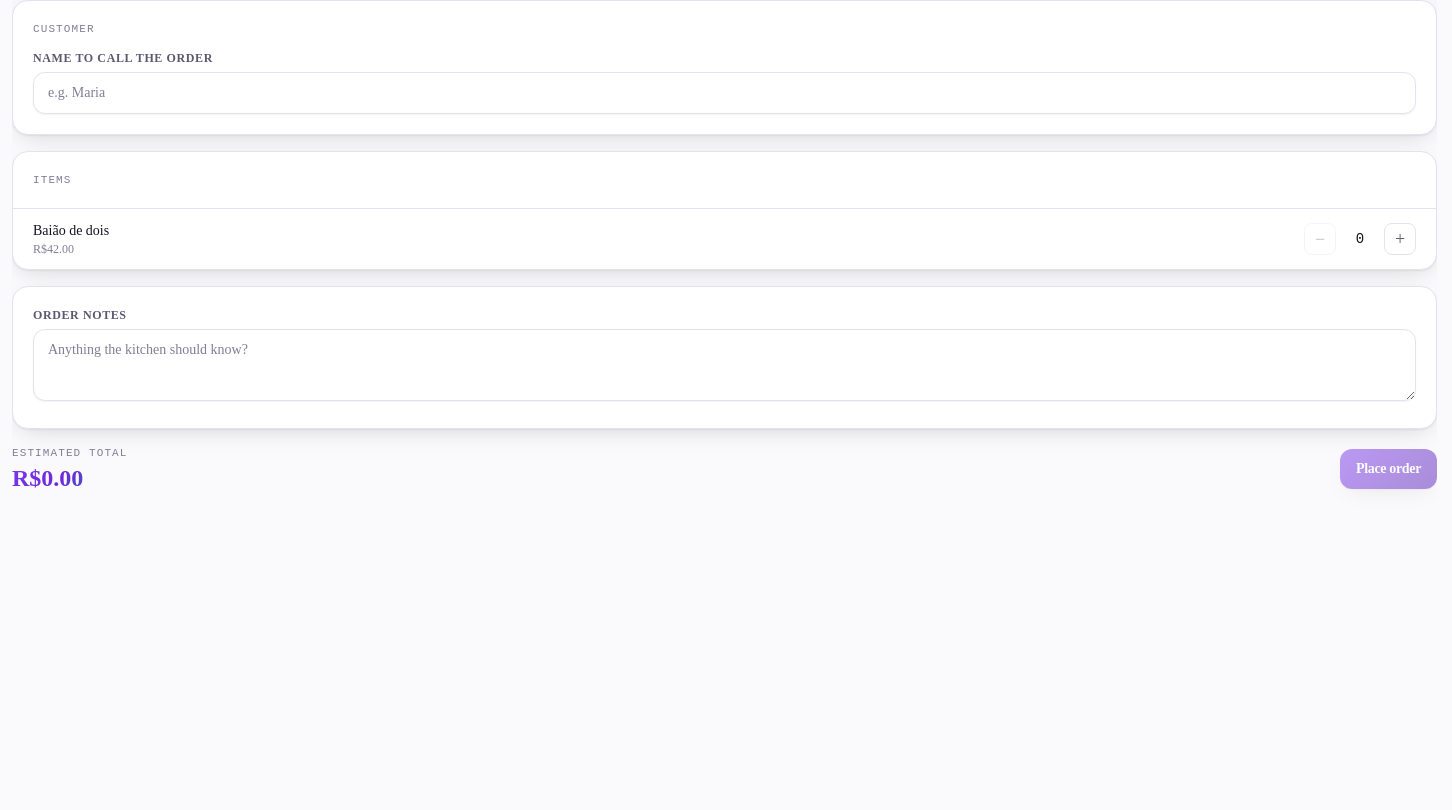
Scenario: CreateOrderForm — TOTEM › names the cause when an item is out of stock
Click the button named "Increase quantity".
click(1400, 239)  # box [1384,223,1416,255]
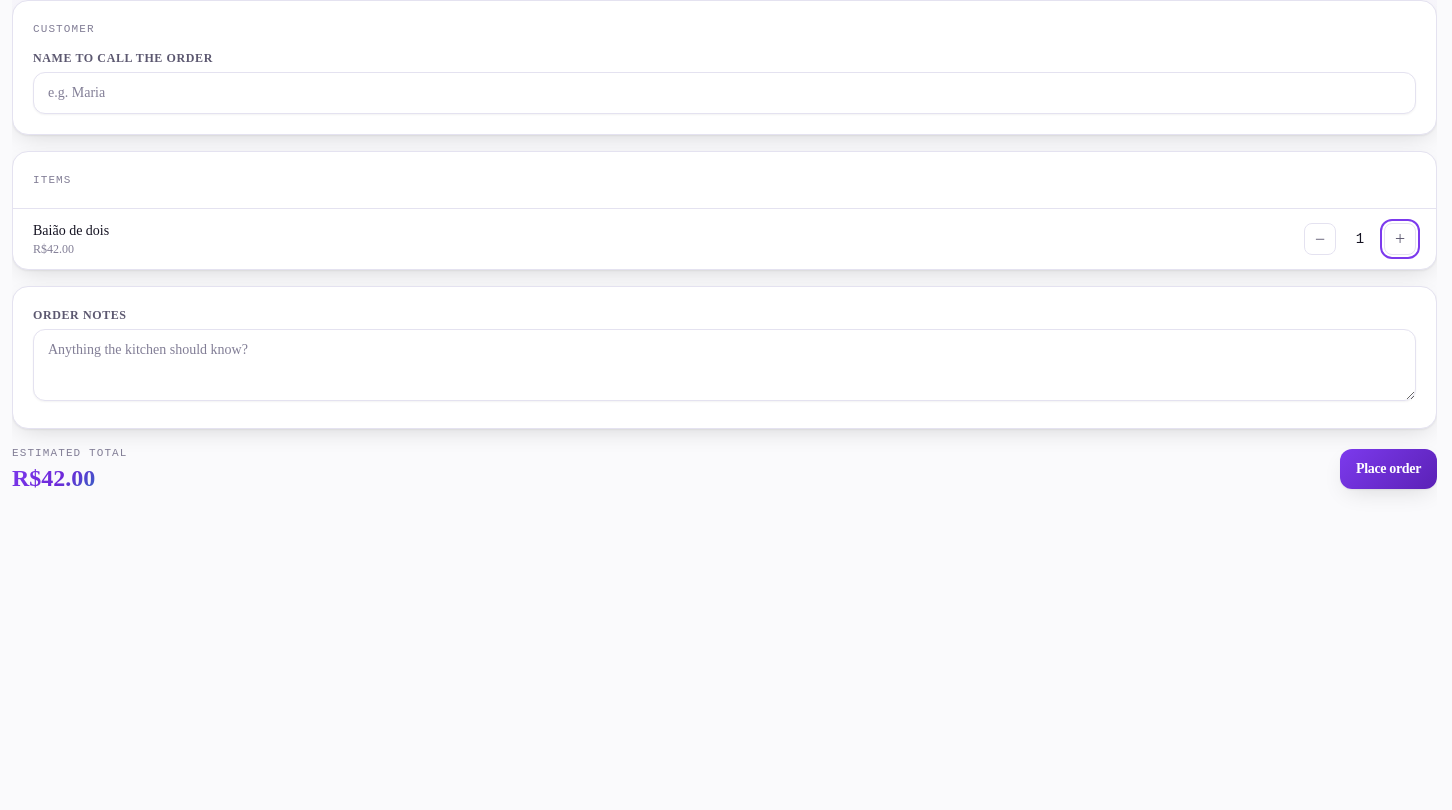
Type "Maria" into the field labelled "Name to call the order".
click(724, 92); type("Maria")  # box [33,72,1416,114]
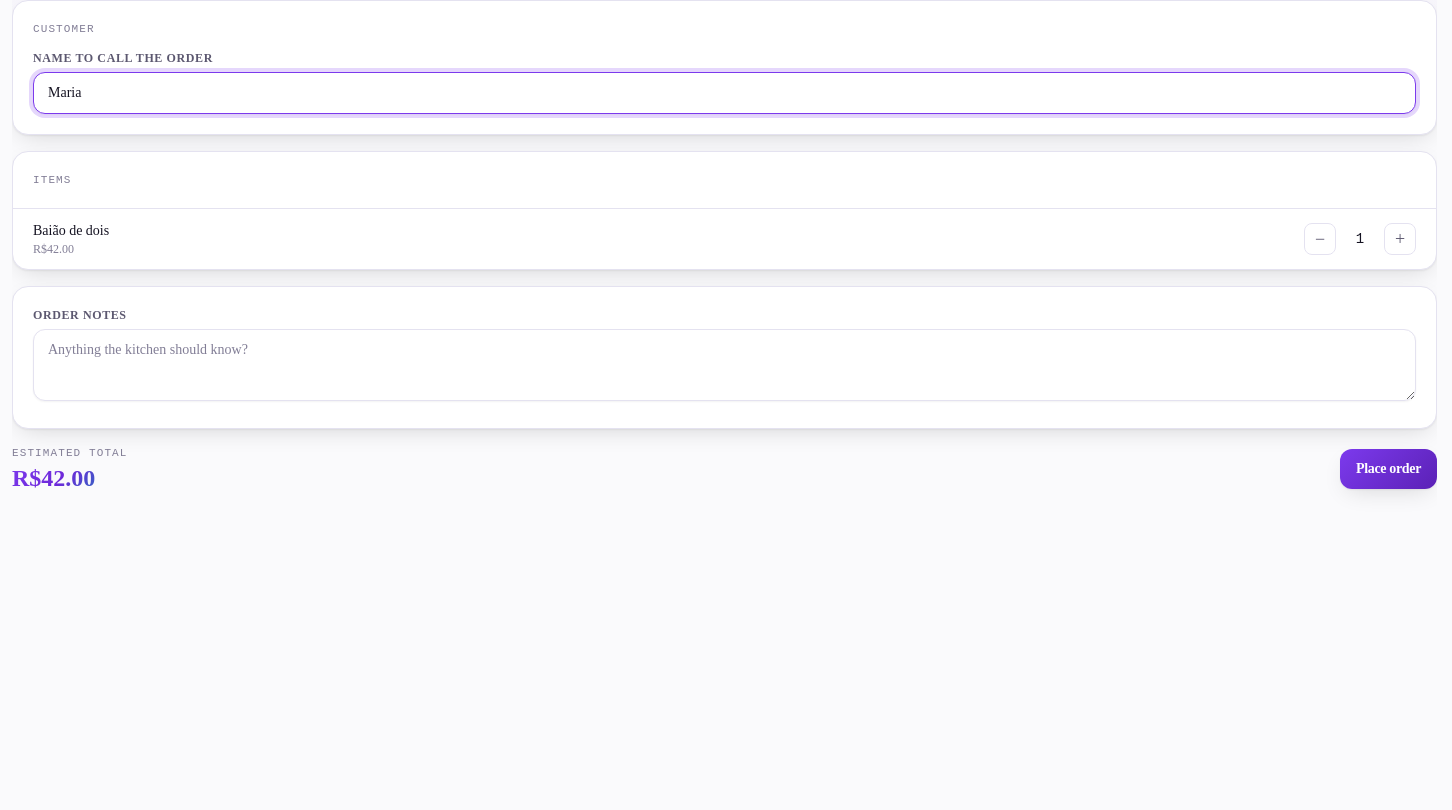
Click the button "Place order".
click(1388, 469)  # box [1340,449,1437,489]
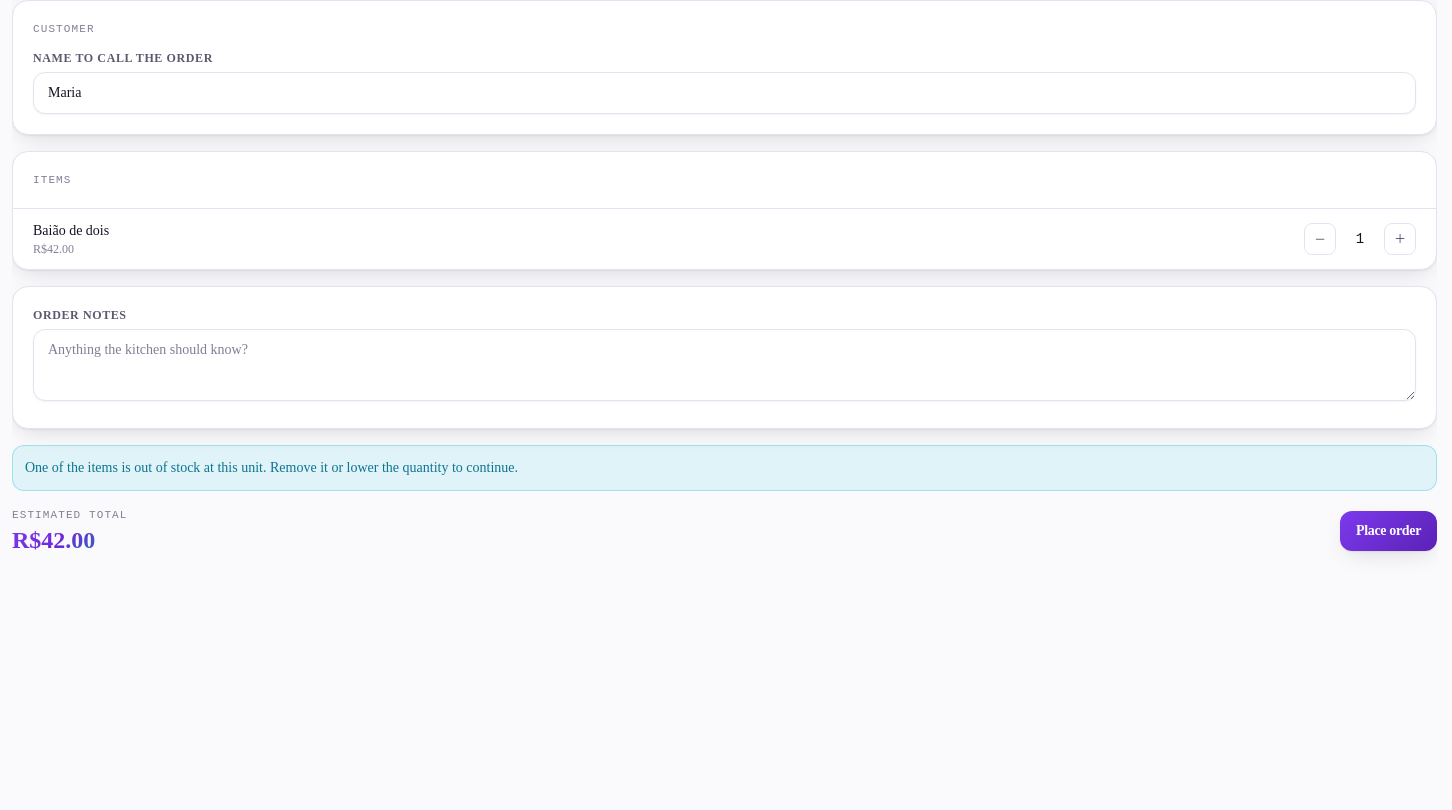
expect the text "out of stock at this unit" is shown: met, box [25,460,518,475]
